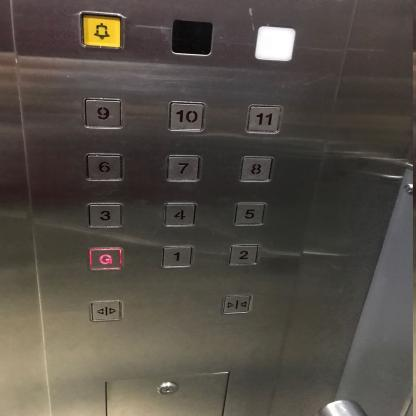1: (159, 244, 194, 269)
10: (166, 100, 207, 133)
11: (244, 103, 283, 134)
2: (226, 243, 260, 266)
3: (85, 201, 125, 229)
4: (162, 200, 199, 228)
5: (230, 201, 267, 227)
6: (84, 152, 125, 182)
7: (164, 152, 203, 184)
8: (238, 155, 274, 183)
9: (81, 96, 124, 130)
G: (86, 246, 124, 271)
alarm: (77, 9, 126, 52)
close: (220, 294, 254, 314)
empty: (168, 17, 214, 58), (252, 23, 297, 62)
open: (87, 299, 124, 322)
